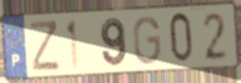0: (167, 10, 196, 67)
1: (64, 16, 80, 73)
2: (201, 10, 230, 63)
9: (99, 16, 128, 70)
G: (132, 14, 163, 67)
Z: (29, 19, 62, 73)
